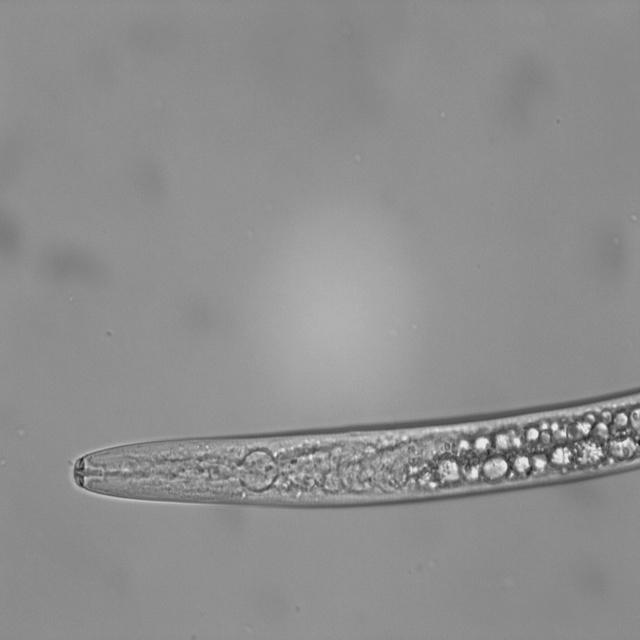Pratylenchus: (55, 383, 640, 515)
